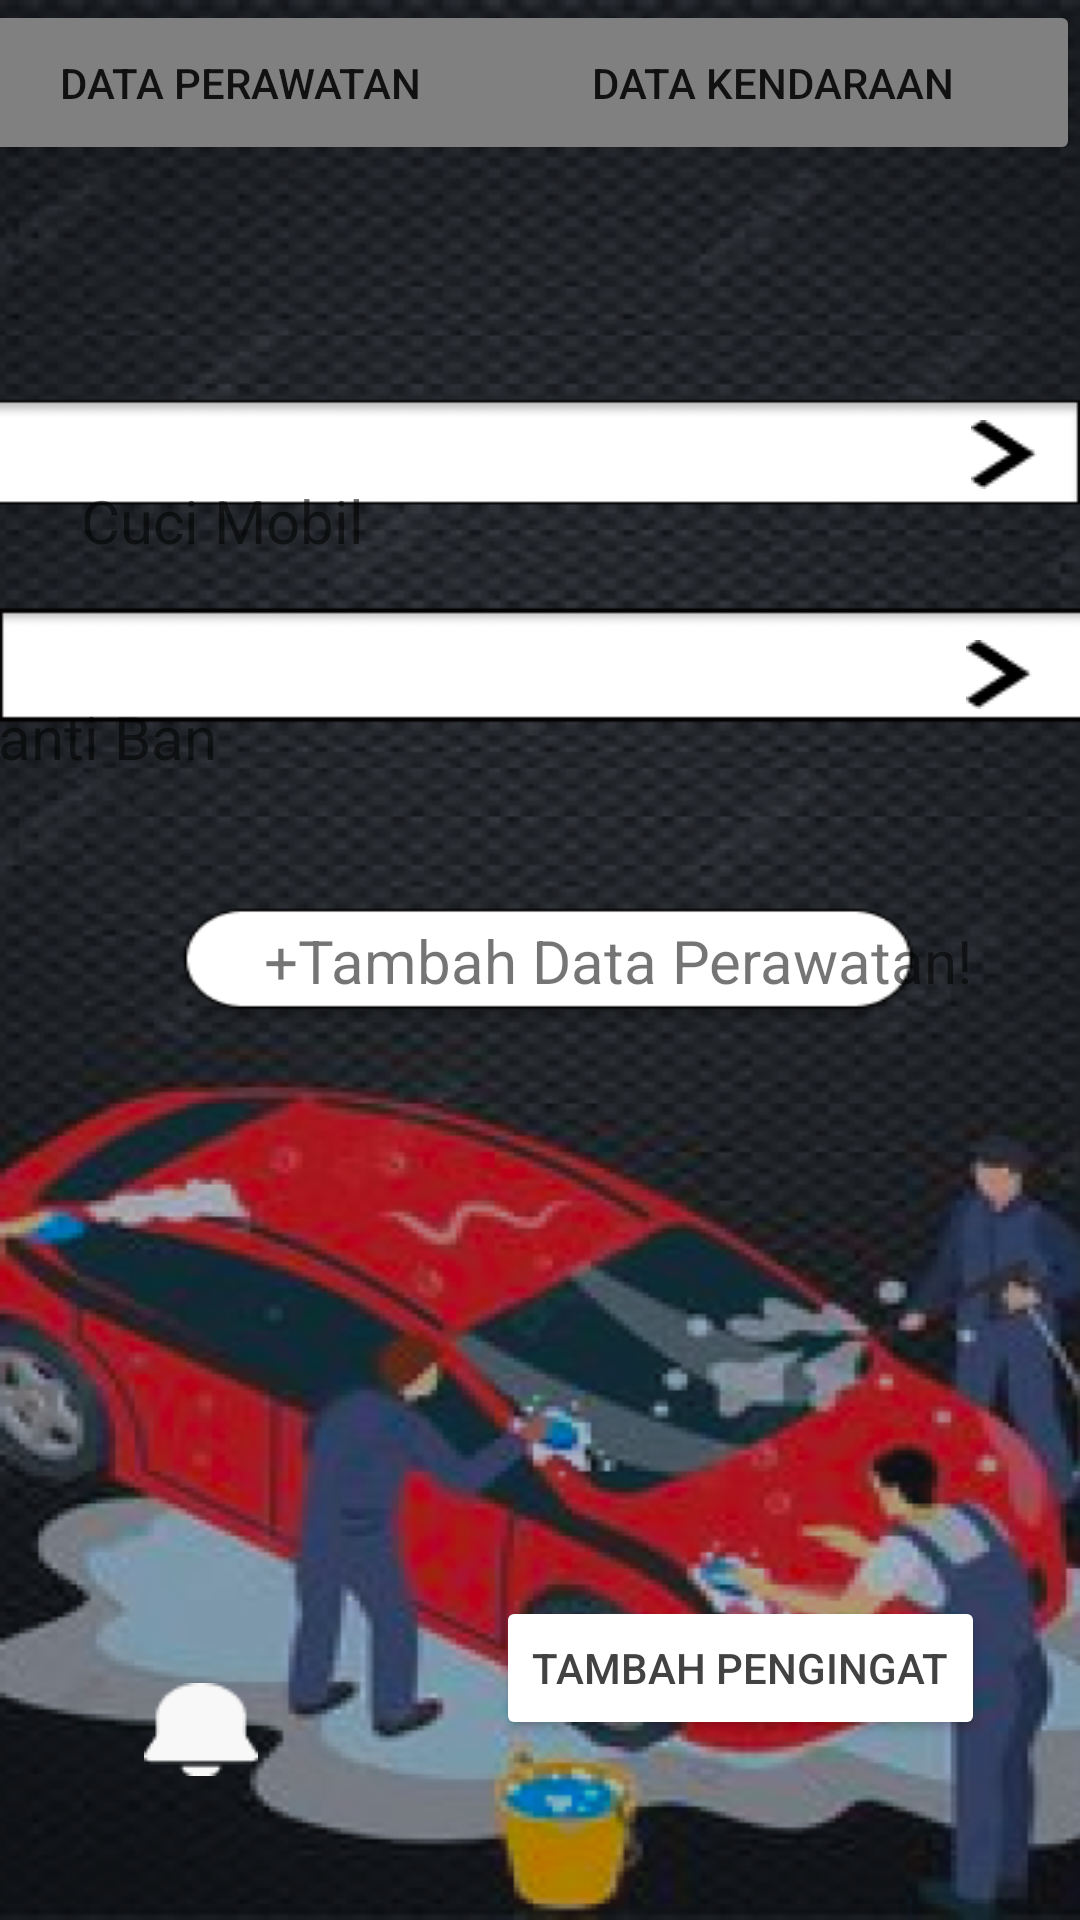

Screen size 1080×1920. Icon name, then its center in pixels as point (x, y):
next: point (1003, 454), point (998, 674)
notification: point (201, 1729)
